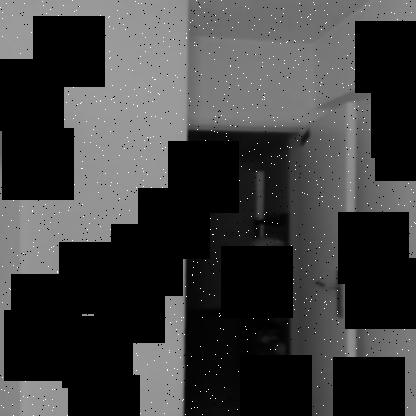Porte: (185, 100, 371, 416)
